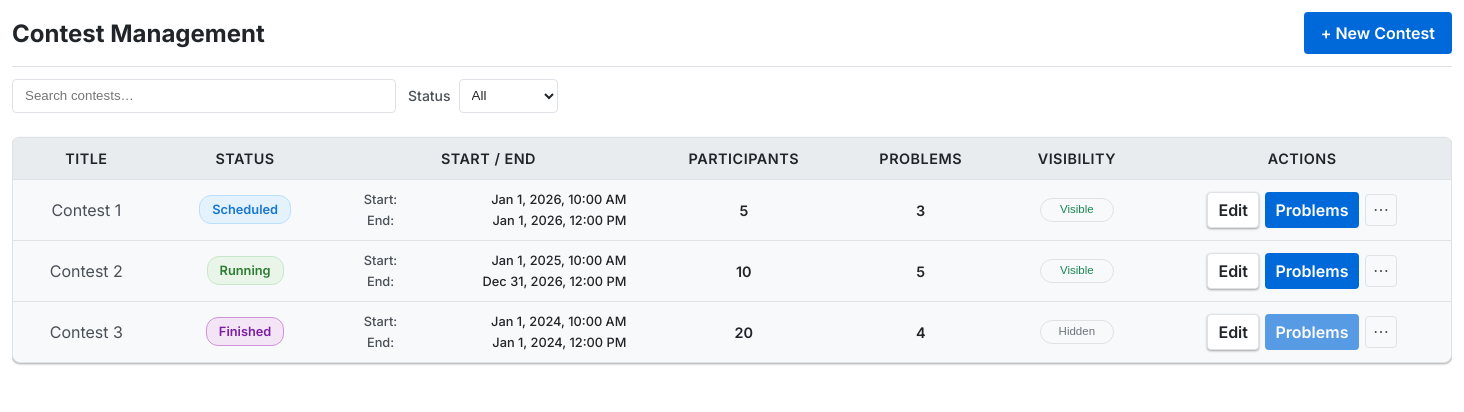
ContestManagement Component › blocks deletion of running contests
Expected: the text "Contest 2" is shown, [13,240,160,301]
Click the button named "row actions for Contest 2": (1381, 271) [1365,255,1397,287]
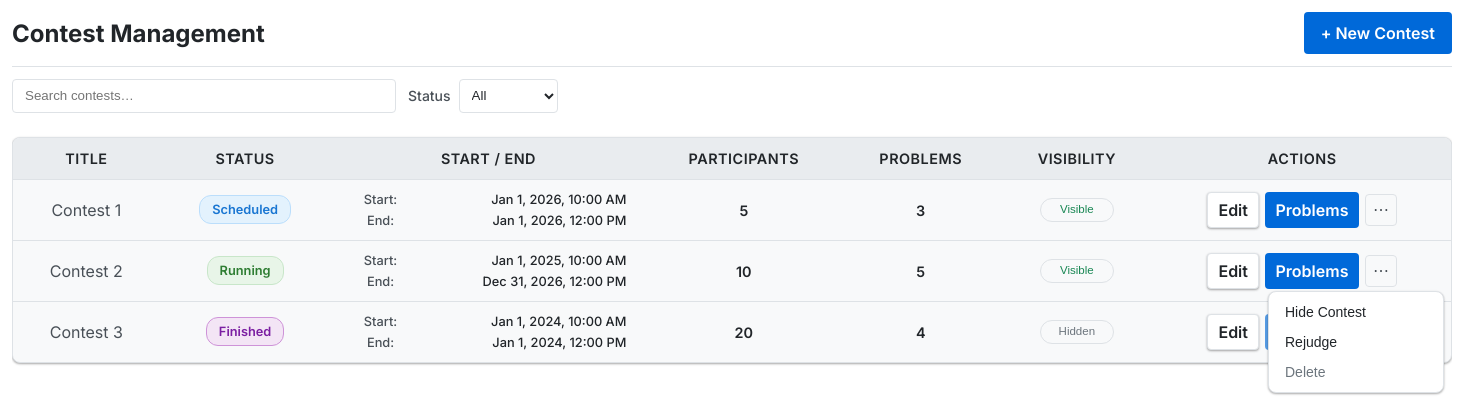
Now the menu item "Delete" is disabled, box [1274,357,1438,388]
